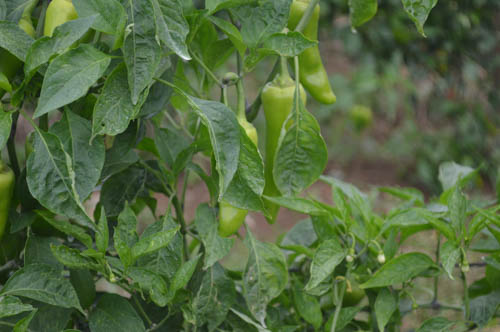ChiliPepper: (262, 84, 302, 226), (289, 3, 337, 101), (221, 124, 257, 235)
